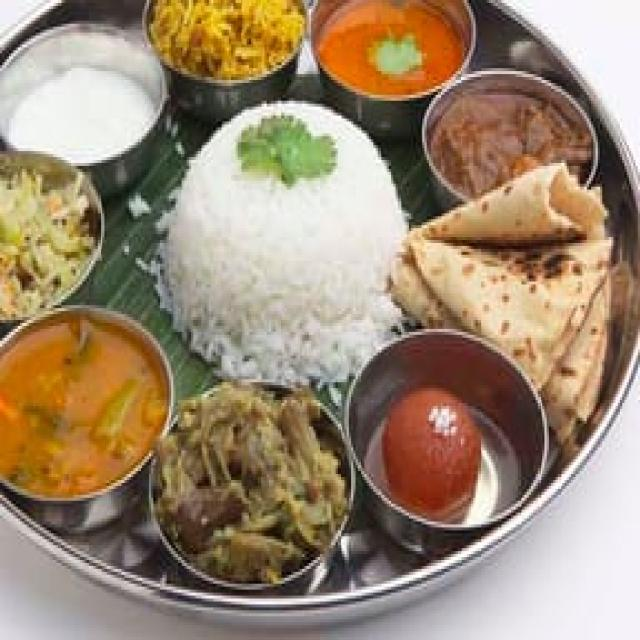veg meals: (0, 0, 640, 597)
